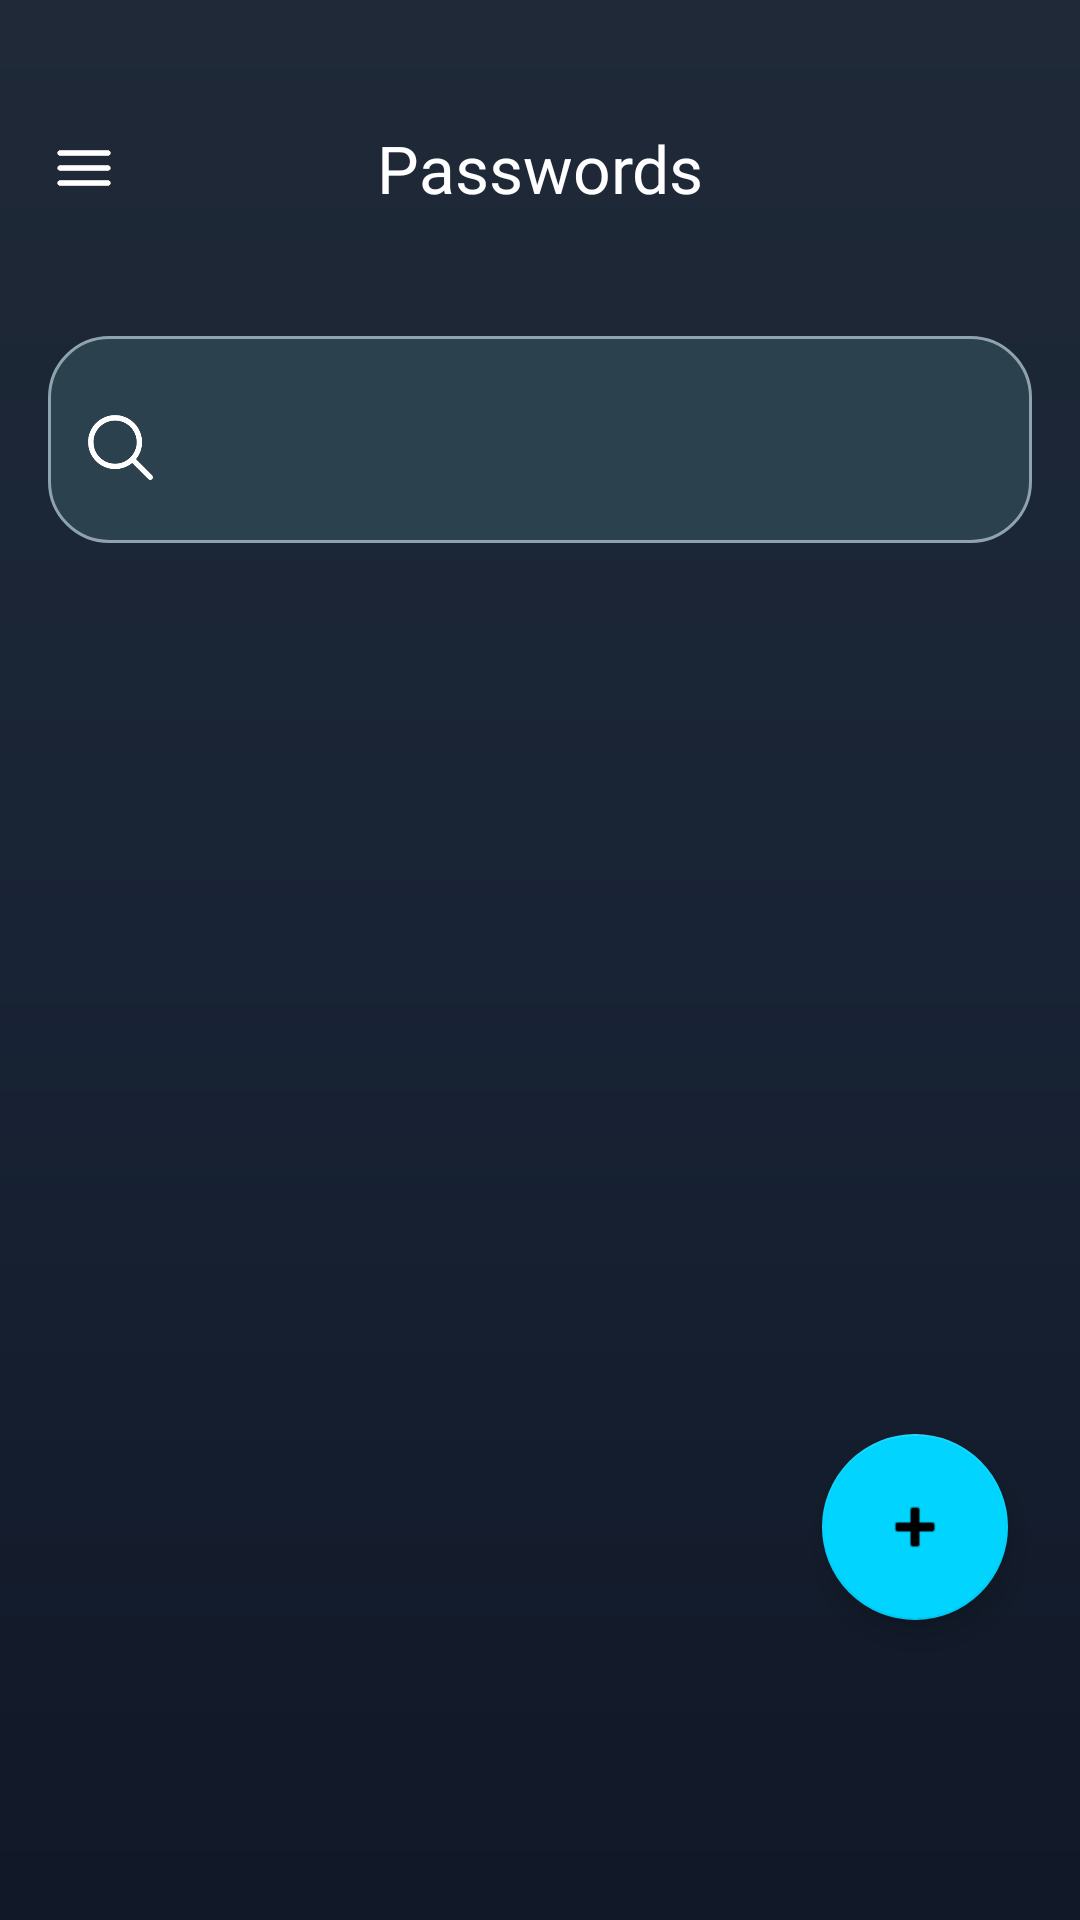

Where to tap for icons on this 1080*1920 app screen, as point (x, y):
Add new entry: point (915, 1527)
